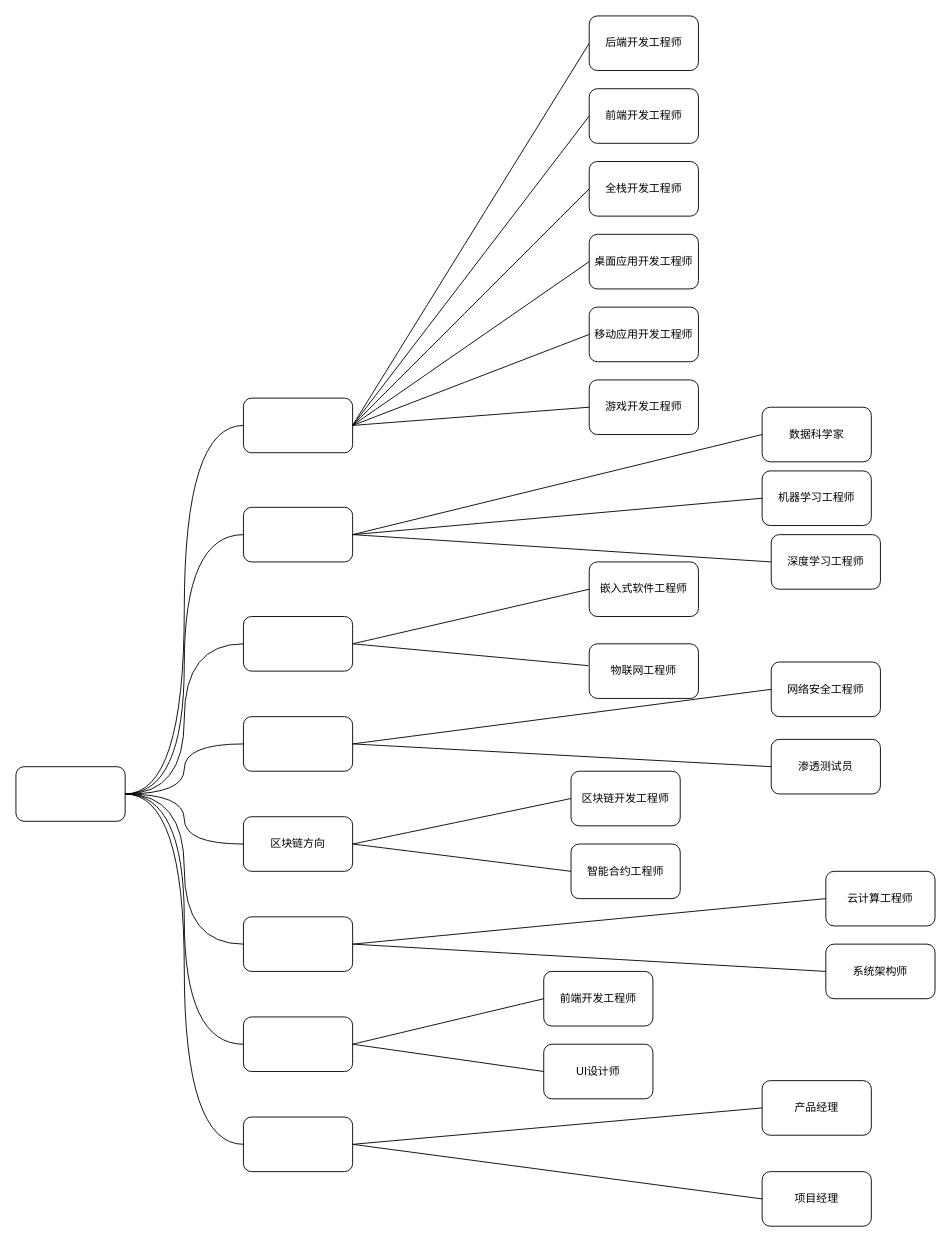
Image size: 951x1242. Some labels were removed from this diagram. Each missing label, with the centre of its shape:
云计算与大数据方向: the point at 298,943
产品管理方向: the point at 298,1144
前端开发与UI/UX设计方向: the point at 298,1044
嵌入式系统与物联网: the point at 298,643
数据科学与人工智能方向: the point at 298,534
网络安全方向: the point at 298,743
计算机相关职业: the point at 70,793
软件开发方向: the point at 298,425
